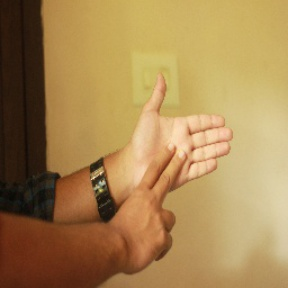N: (114, 71, 243, 268)
